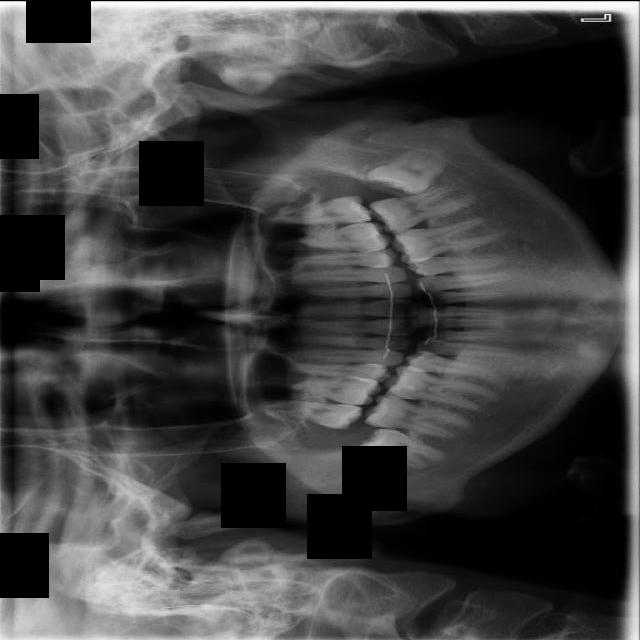73: (589, 36, 595, 44)
BioHorizons Implant: (273, 193, 372, 231)
Biomet 3i Implant: (363, 135, 456, 211)
Blue Sky Bio Implant: (366, 176, 482, 237)
Caries: (255, 395, 364, 431)
Implant: (363, 390, 474, 442)
Keystone Dental Implant: (352, 419, 450, 476)
